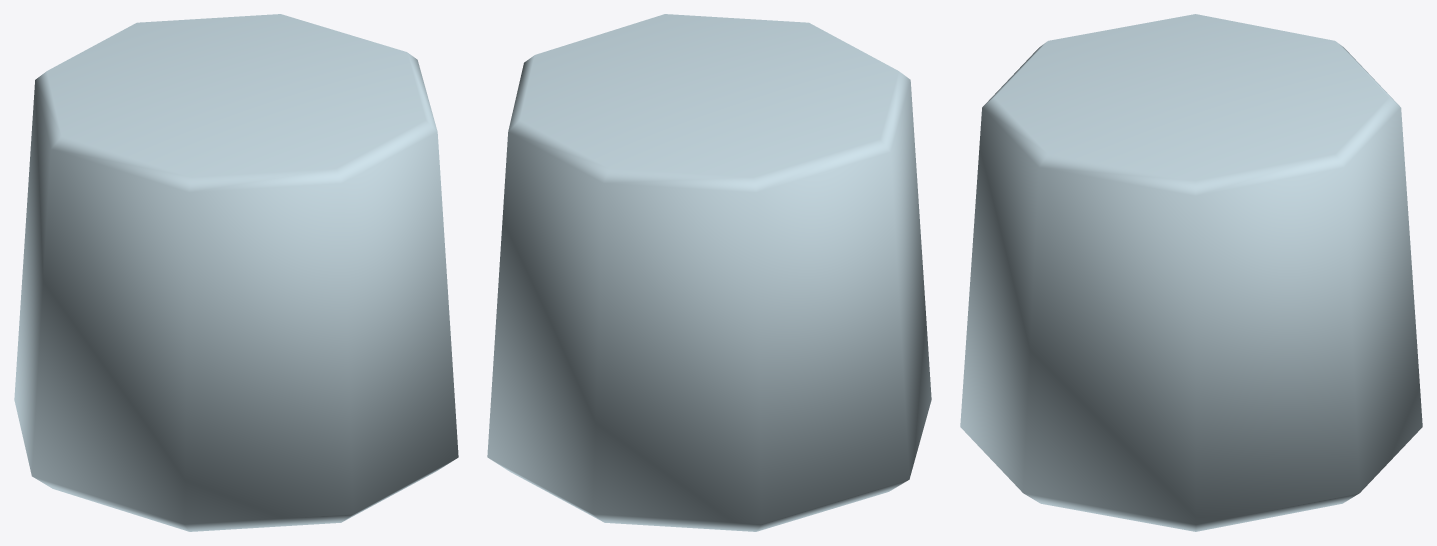
File: pepperbottom.fbx
3 renders of one model, left to right at view 1: azimuth 30°, elevation 25°; view 2: azimuth 150°, elevation 25°; view 3: azimuth 270°, elevation 25°, orthographic.
Visible parts, largest first — view 1: PepperBottom; view 2: PepperBottom; view 3: PepperBottom.
Boxes of the visible parts, left/top/right/bottom form: PepperBottom: left=14, top=14, right=458, bottom=531; PepperBottom: left=487, top=14, right=931, bottom=531; PepperBottom: left=960, top=14, right=1422, bottom=531.
Bounding box in the file's own units: 200 × 166 × 200.
